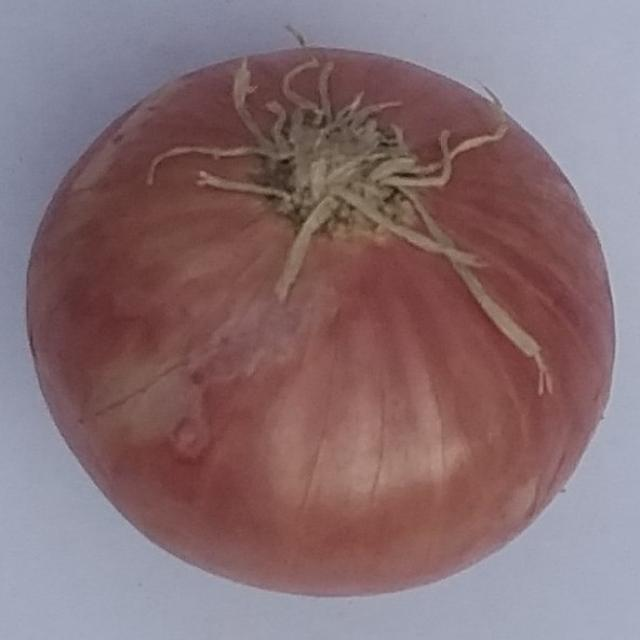onion: (24, 26, 620, 601)
